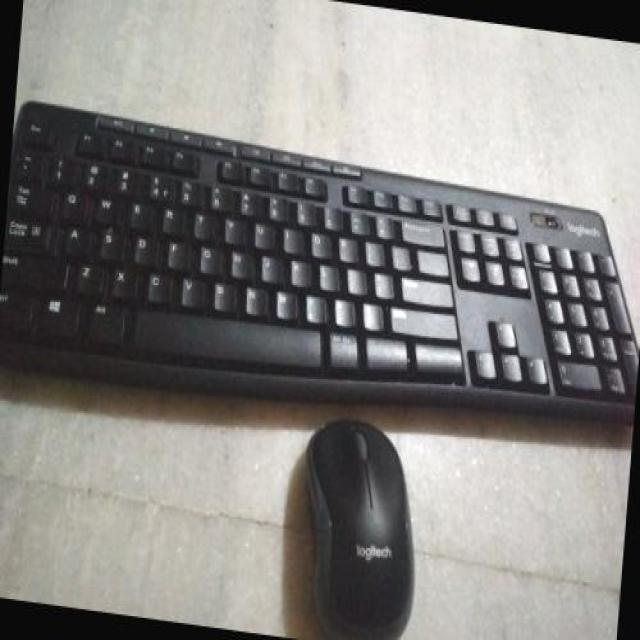keyboard: (6, 106, 640, 396)
mouse: (310, 420, 411, 635)
